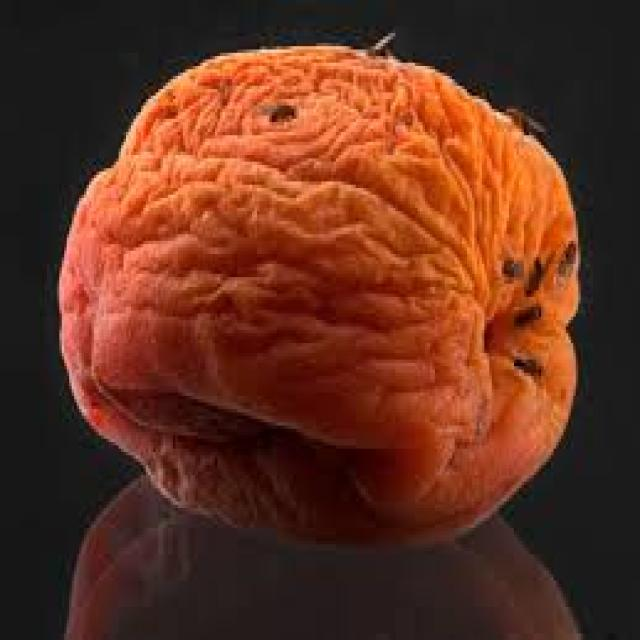fruit fly: (494, 89, 551, 149), (353, 17, 403, 62), (504, 336, 549, 386), (499, 287, 544, 337), (252, 86, 299, 132), (546, 228, 578, 290), (494, 238, 529, 287), (519, 244, 548, 300)
